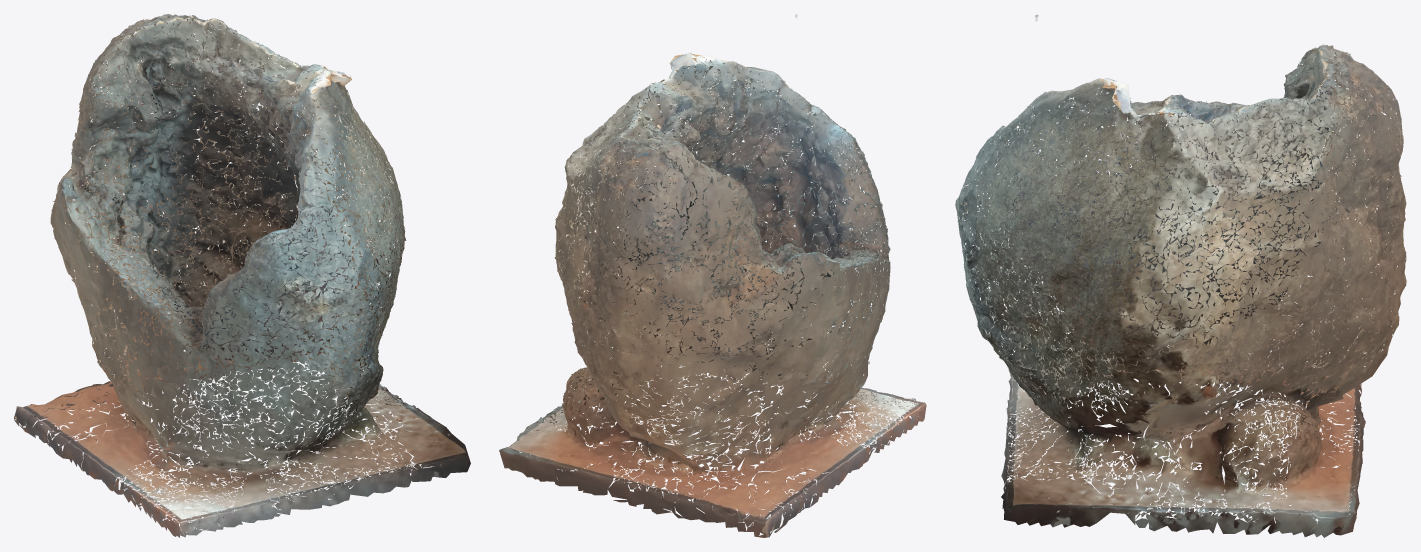
Rendered from bomb.glb.
The picture shows the model from 3 angles, left to right: view 1: azimuth 30°, elevation 25°; view 2: azimuth 150°, elevation 25°; view 3: azimuth 270°, elevation 25°; orthographic projection. The views are drawn at different scales.
Parts seen in each view (by area): view 1: Object_15, Object_3, Object_11, Object_10, Object_17, Object_12, Object_16, Object_2, Object_4, Object_7, Object_13, Object_8 (+5 smaller); view 2: Object_4, Object_3, Object_17, Object_7, Object_16, Object_12, Object_13, Object_8, Object_9, Object_2, Object_18, Object_15 (+4 smaller); view 3: Object_10, Object_7, Object_8, Object_6, Object_2, Object_4, Object_16, Object_15, Object_11, Object_3, Object_13, Object_9 (+4 smaller).
Part boxes in pixels (x1,y1,x2,y2): Object_15: (108, 74, 430, 514); Object_3: (54, 14, 390, 469); Object_11: (104, 70, 398, 489); Object_10: (201, 199, 415, 446); Object_17: (57, 19, 412, 491); Object_12: (56, 68, 445, 481); Object_16: (56, 61, 361, 527); Object_2: (202, 136, 412, 461); Object_4: (53, 14, 470, 496); Object_7: (14, 44, 384, 452); Object_13: (62, 15, 395, 536); Object_8: (23, 15, 406, 437); Object_4: (589, 119, 827, 445); Object_3: (566, 111, 890, 471); Object_17: (583, 14, 880, 488); Object_7: (535, 103, 872, 537); Object_16: (557, 67, 915, 518); Object_12: (567, 52, 792, 470); Object_13: (506, 14, 925, 495); Object_8: (560, 84, 802, 532); Object_9: (516, 96, 926, 536); Object_2: (598, 70, 887, 385); Object_18: (499, 66, 907, 531); Object_15: (583, 54, 886, 477); Object_10: (957, 138, 1241, 533); Object_7: (960, 119, 1365, 534); Object_8: (1004, 62, 1402, 424); Object_6: (976, 105, 1234, 341); Object_2: (965, 108, 1173, 497); Object_4: (978, 45, 1403, 527); Object_16: (1094, 48, 1383, 463); Object_15: (955, 84, 1293, 486); Object_11: (963, 77, 1313, 498); Object_3: (983, 45, 1405, 463); Object_13: (967, 14, 1400, 520); Object_9: (963, 93, 1400, 536).
Bounding box in the file's own units: 1.84 × 2.4 × 2.23.
Materials: 4 (4 with a texture image).
